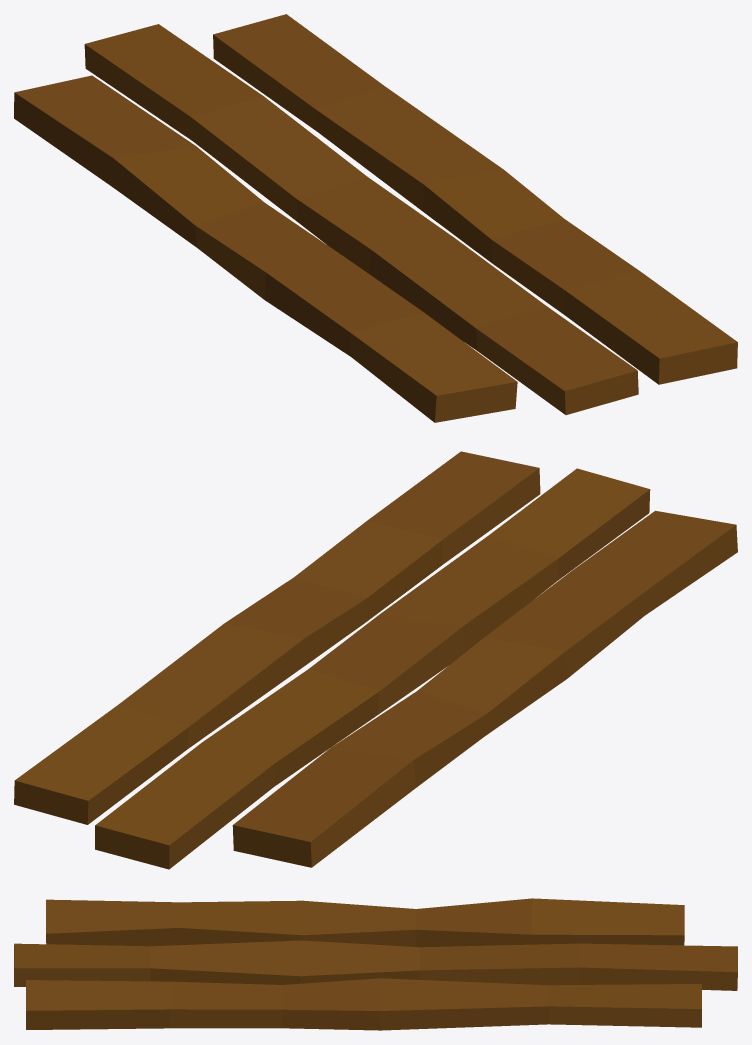
Rendered from wood.fbx.
The picture shows the model from 3 angles, top to bottom: view 1: azimuth 30°, elevation 25°; view 2: azimuth 150°, elevation 25°; view 3: azimuth 270°, elevation 25°; orthographic projection. The views are drawn at different scales.
Parts seen in each view (by area): view 1: Cube.312; view 2: Cube.312; view 3: Cube.312.
Part boxes in pixels (x1=…): Cube.312: x1=14, y1=14, x2=737, y2=422; Cube.312: x1=14, y1=451, x2=737, y2=869; Cube.312: x1=14, y1=898, x2=737, y2=1030.
Bounding box in the file's own units: 0.8491 × 0.1093 × 2.42.
